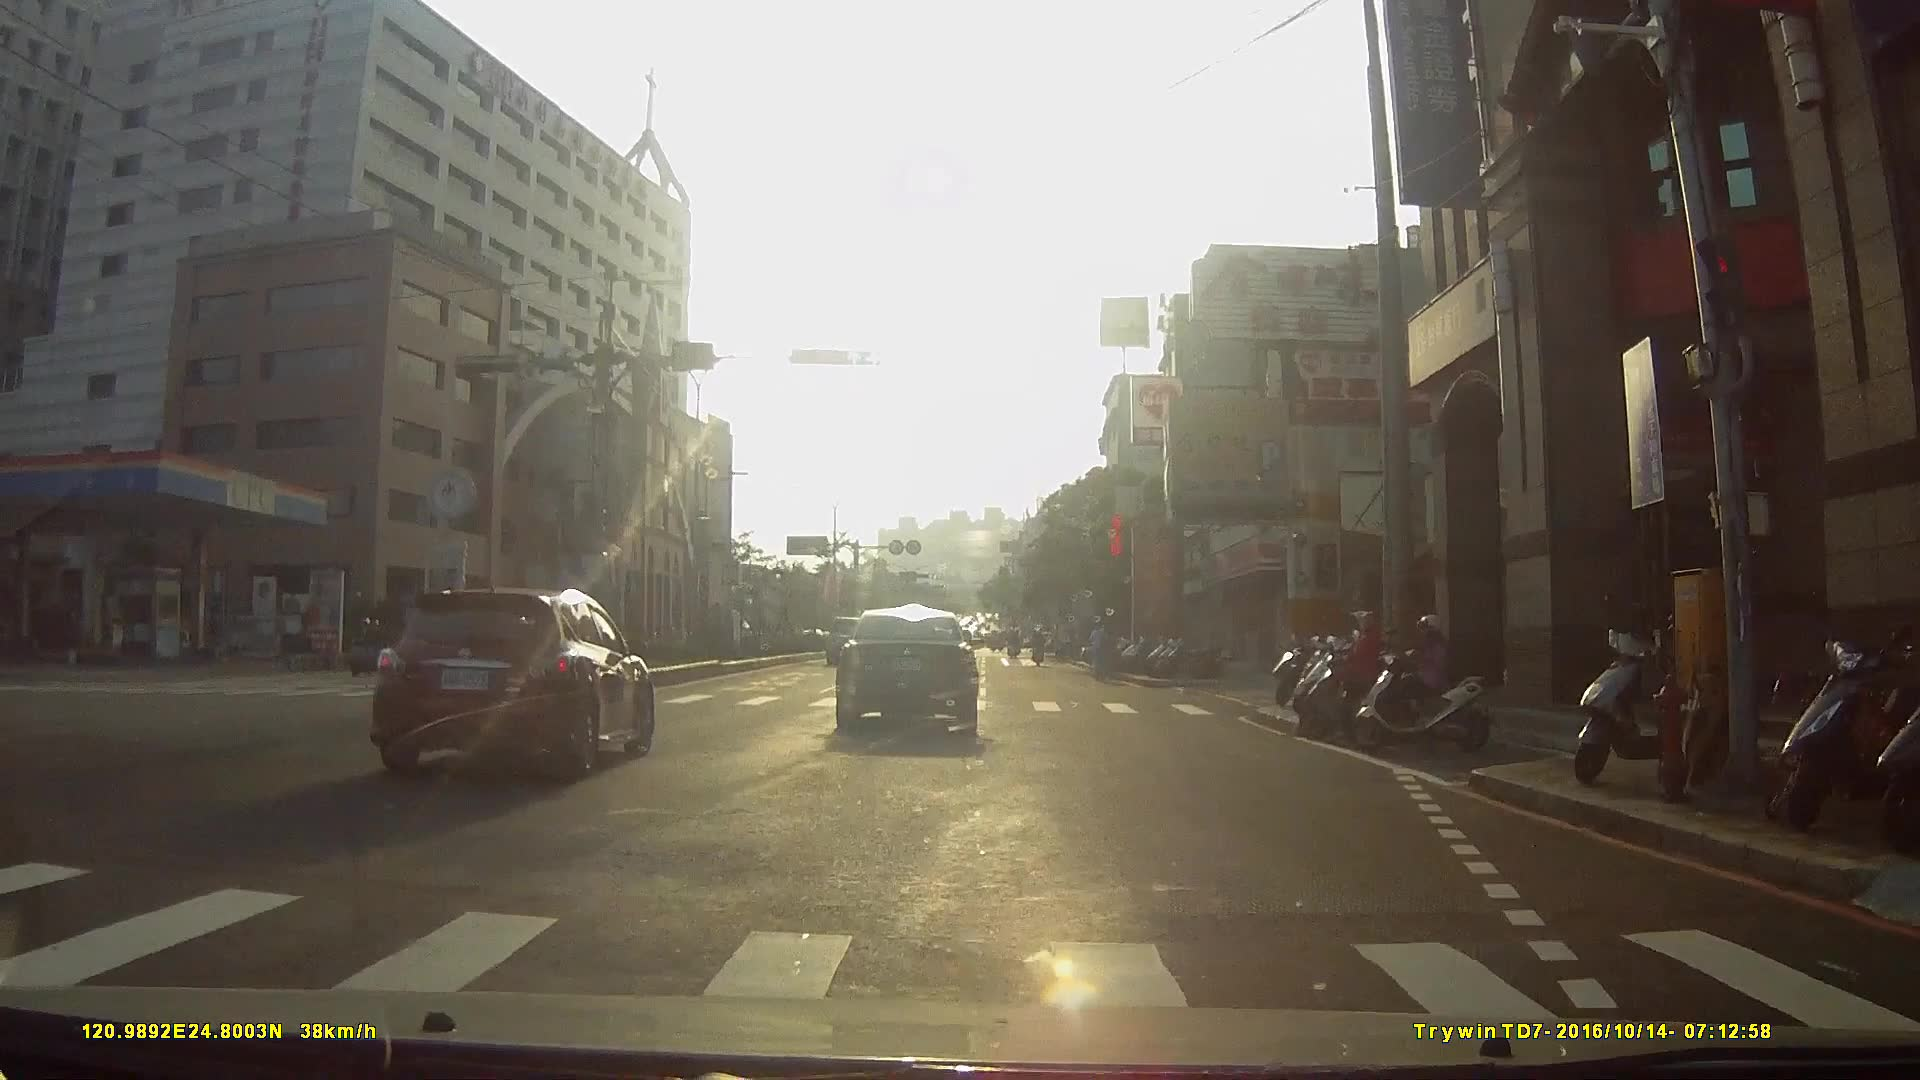rider: (1346, 603, 1500, 759), (1290, 605, 1408, 734), (347, 614, 388, 674)
vehicle: (369, 582, 664, 787), (839, 606, 999, 745), (763, 607, 822, 662)
